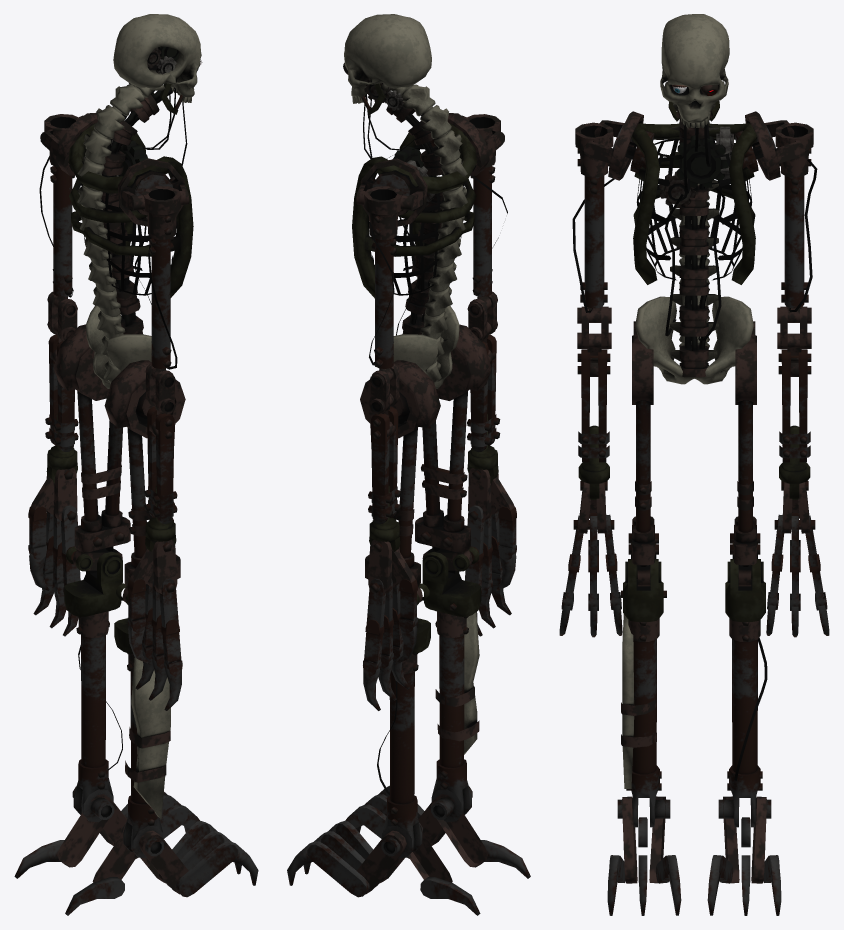
The model's file is monster1.glb.
3 renders of one model, left to right at view 1: azimuth 30°, elevation 25°; view 2: azimuth 150°, elevation 25°; view 3: azimuth 270°, elevation 25°, orthographic.
Parts seen in each view (by area): view 1: Final; view 2: Final; view 3: Final.
Part boxes in pixels (bbox=[...]): Final: bbox=[14, 14, 258, 915]; Final: bbox=[287, 14, 530, 915]; Final: bbox=[559, 14, 829, 915].
Size of the model in its own units: 0.5461 by 2.53 by 0.7128.
2 materials, 1 textured.
